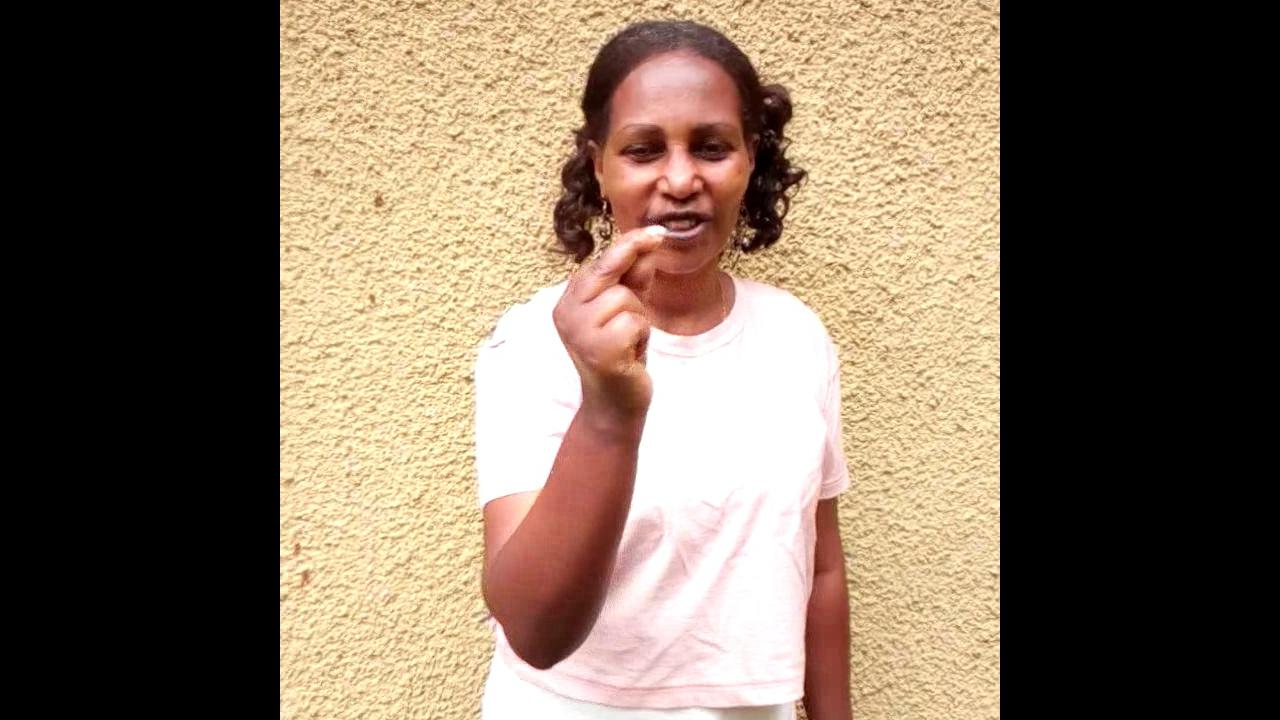CHE: (547, 222, 668, 509)
